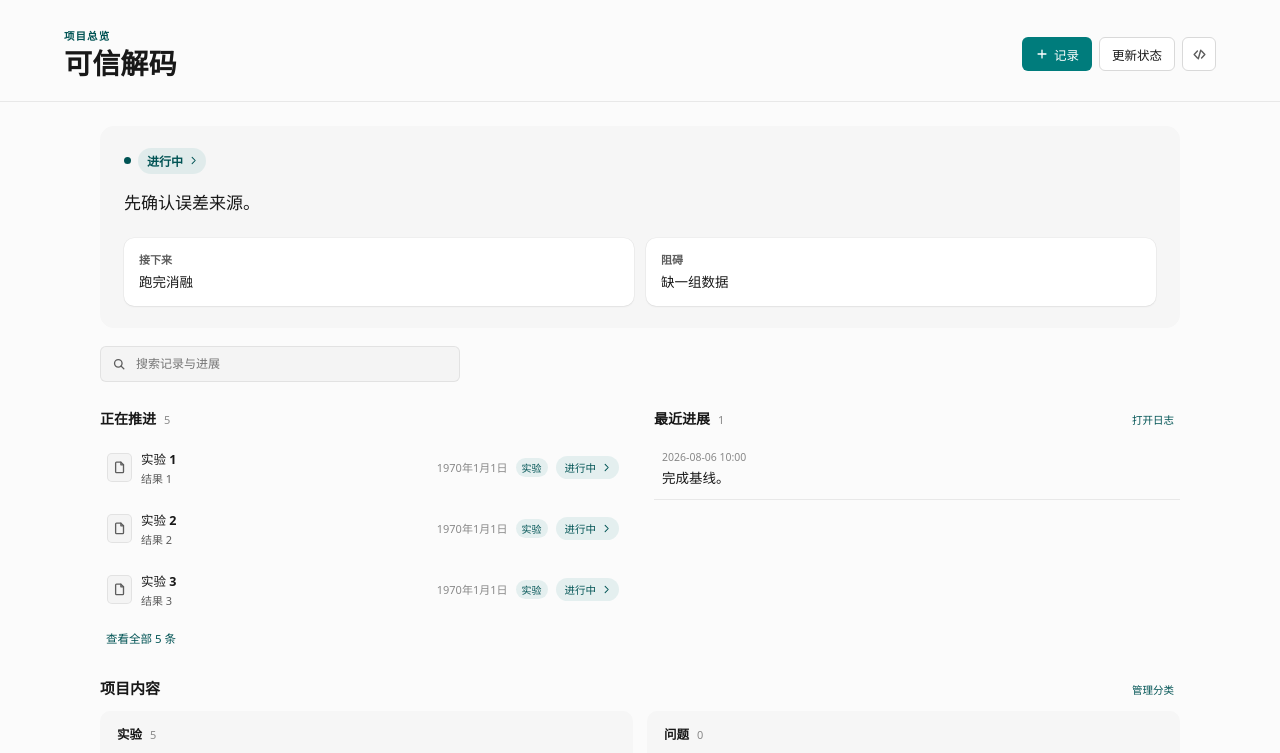
Test case: 单项目总览 › 搜索记录的完整正文和进展，命中项不受三条折叠限制
expect the element showing "进行中 先确认误差来源。 接下来 跑完消融 阻碍 缺一组数据" is shown: met, box [100, 126, 1180, 328]
Note: 关键词只出现在第五条的正文第二段，不在标题或摘要里；它原本也沉在“查看全部”后面。
In the field named "搜索项目记录与进展": {"x": 292, "y": 364} [134, 354, 451, 373], type "贝叶斯"
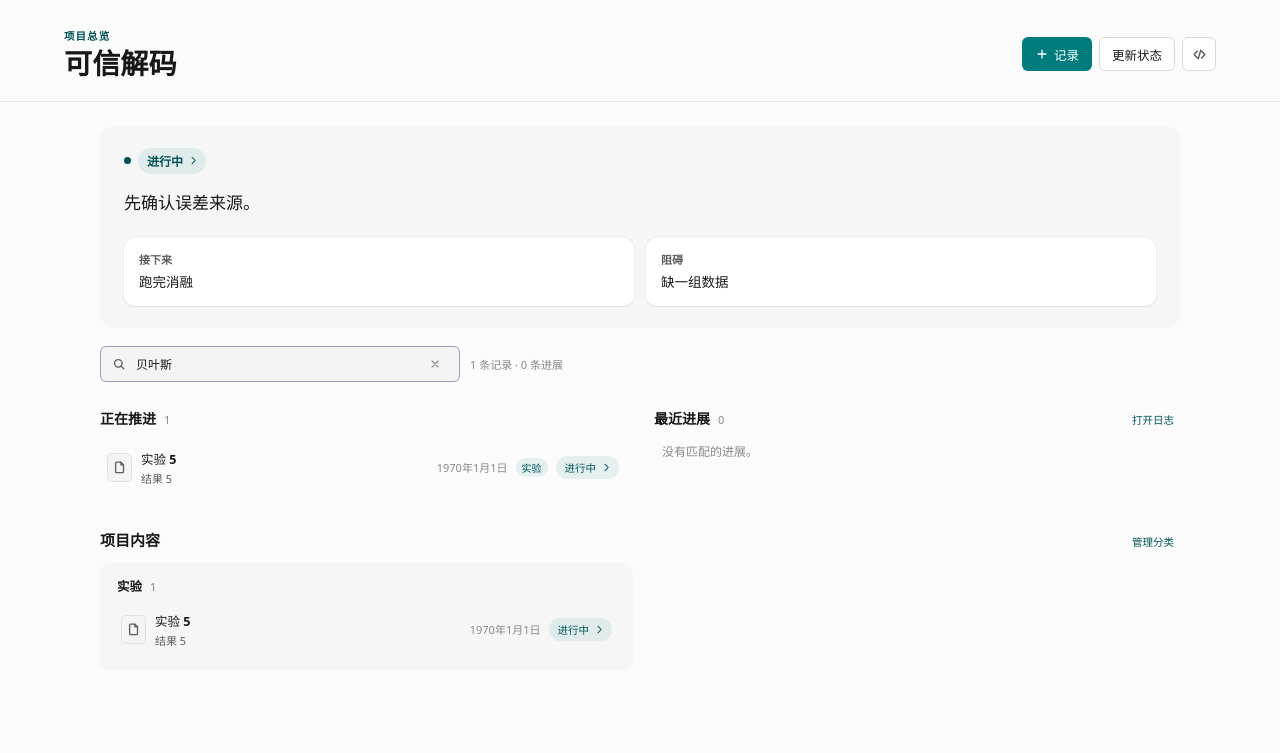
expect the text "1 条记录 · 0 条进展" is shown: met, box [470, 356, 563, 372]
expect the button "查看全部 5 条" is gone: met
Replace the text in the field named "搜索项目记录与进展" with "基线": {"x": 272, "y": 364} [134, 354, 411, 373]
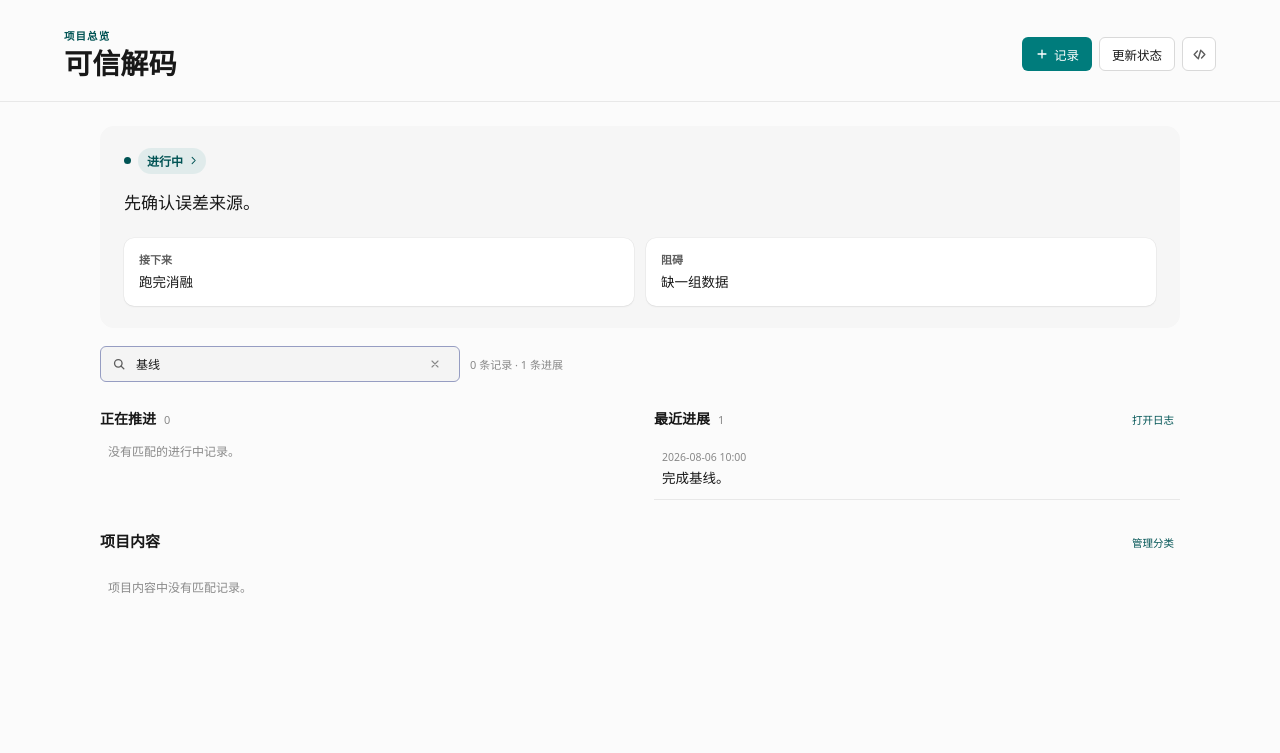
expect the element showing "2026-08-06 10:00 完成基线。" is shown: met, box [654, 438, 1180, 500]
expect the text "0 条记录 · 1 条进展" is shown: met, box [470, 356, 563, 372]
Click the button named "清空搜索": {"x": 435, "y": 364} [419, 348, 451, 380]
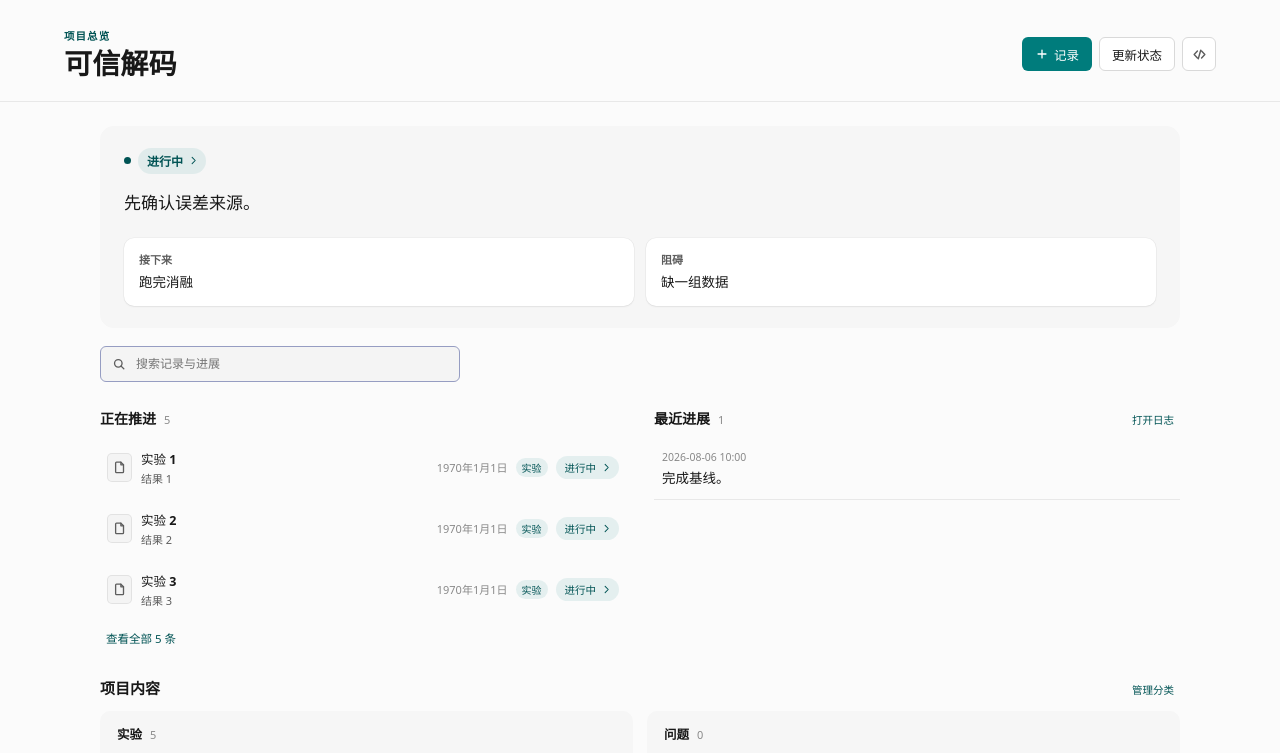
expect the field named "搜索项目记录与进展" is empty: met, box [134, 354, 451, 373]
